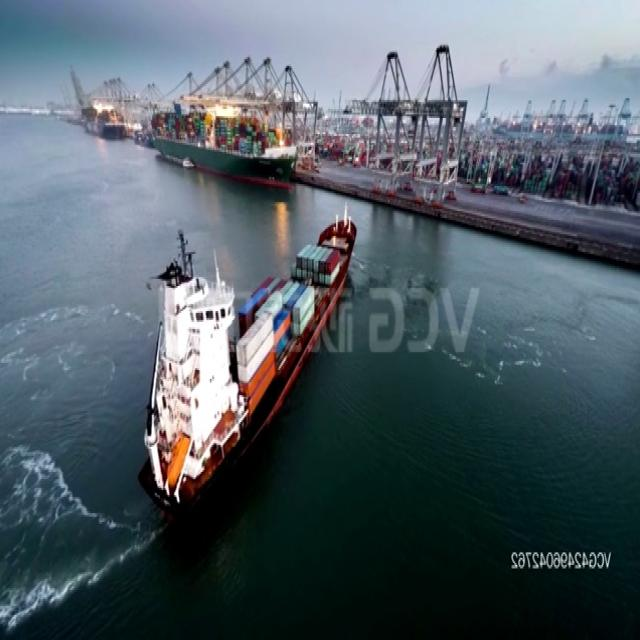cargoship: (135, 197, 359, 520)
